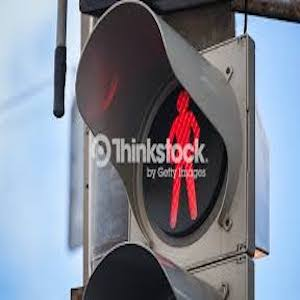red: (152, 88, 206, 220)
